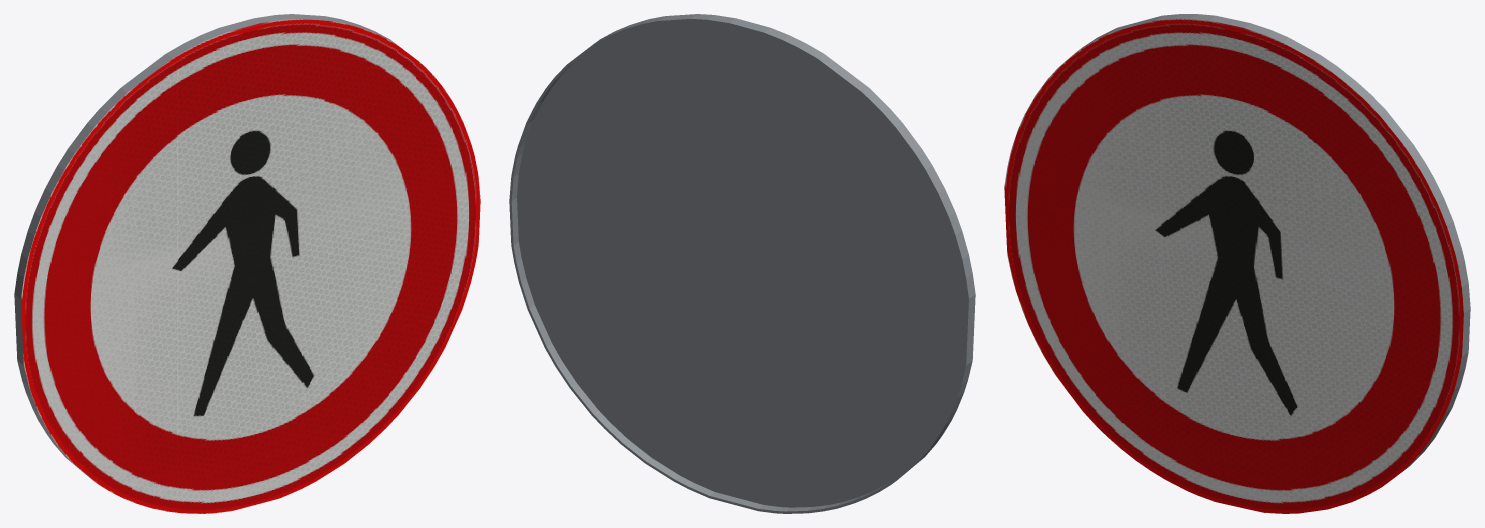
3 views of the same model, side by side, from view 1: azimuth 30°, elevation 25°; view 2: azimuth 150°, elevation 25°; view 3: azimuth 330°, elevation 25° (orthographic).
Parts seen in each view (by area): view 1: cat_0756d65fc778733c; view 2: cat_0756d65fc778733c; view 3: cat_0756d65fc778733c.
Part boxes in pixels (bbox=[...]): cat_0756d65fc778733c: bbox=[14, 14, 480, 513]; cat_0756d65fc778733c: bbox=[509, 14, 975, 513]; cat_0756d65fc778733c: bbox=[1004, 14, 1470, 513].
Bounding box in the file's own units: 0.6 × 0.015 × 0.6.
Materials: 2 (1 with a texture image).
